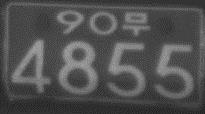0: (88, 10, 118, 36)
4: (10, 38, 52, 94)
5: (153, 44, 195, 101), (105, 41, 146, 99)
8: (57, 39, 99, 96)
9: (56, 9, 84, 34)
무: (122, 10, 151, 36)
